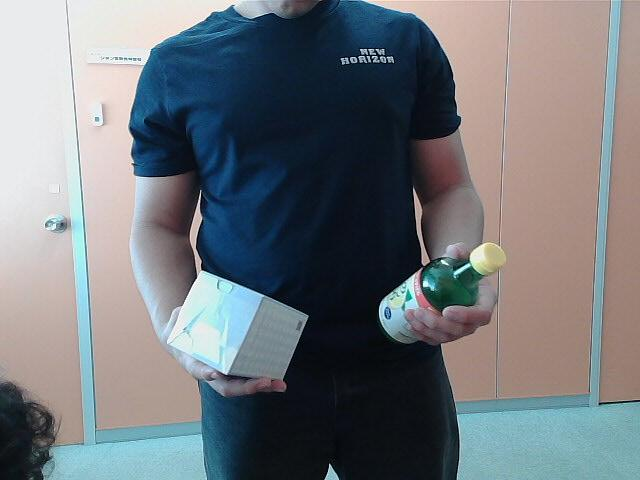Blind_box: (164, 264, 307, 395)
Lemon_sapporo: (376, 236, 506, 356)
